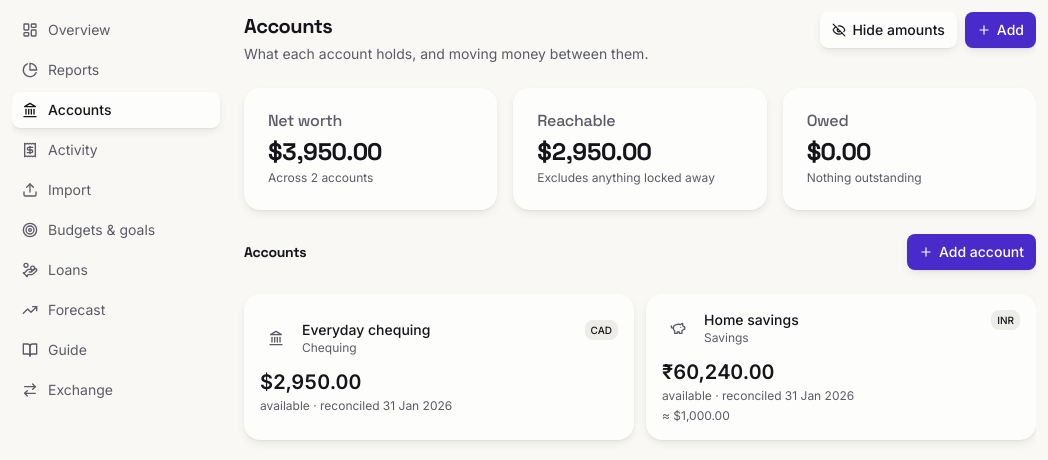
Test: the finance workspace › renders Import with no placeholder
Click the button "Import" at (116, 190), box [12, 172, 220, 208]
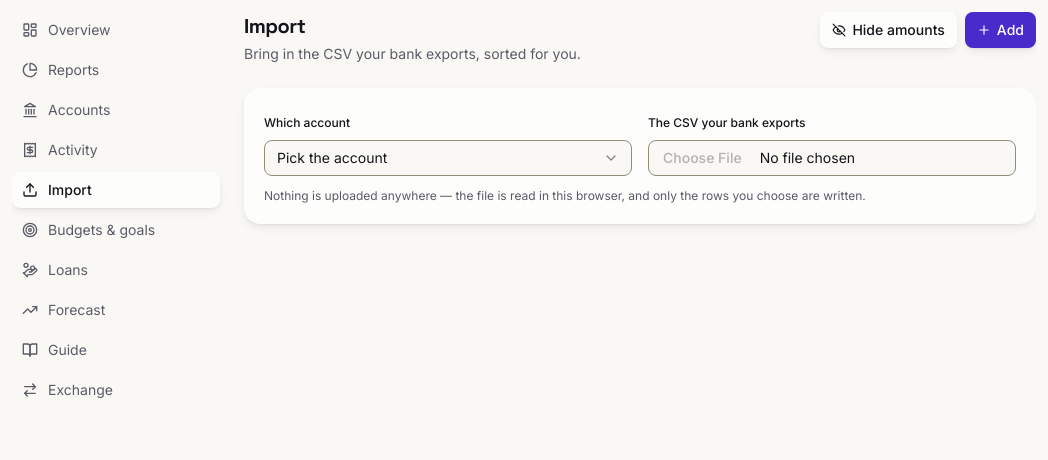
Expected: the heading "Import" is shown, [244, 13, 305, 39]
